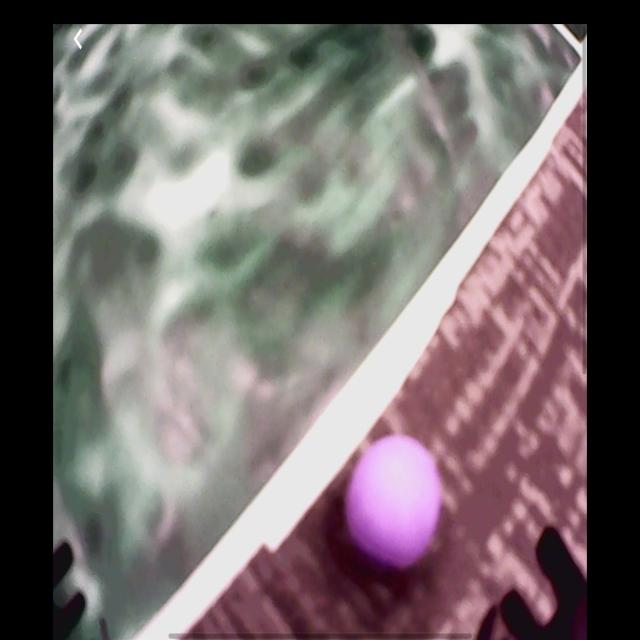ball: (346, 433, 443, 575)
